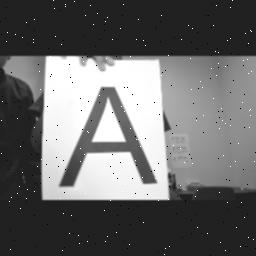a: (54, 80, 164, 194)
